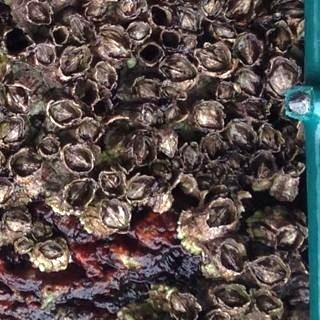Barnacle: (98, 199, 130, 234), (196, 47, 233, 77), (100, 25, 132, 59), (269, 61, 298, 94), (162, 55, 196, 82), (0, 86, 30, 116), (60, 144, 92, 172), (253, 256, 285, 284), (44, 101, 78, 127), (61, 45, 88, 77), (235, 71, 264, 99), (218, 243, 245, 273), (127, 174, 155, 202), (168, 291, 196, 319), (194, 104, 223, 131), (235, 35, 261, 65), (66, 179, 92, 208), (226, 123, 254, 149), (207, 202, 235, 228), (175, 9, 202, 35), (12, 151, 38, 177), (178, 142, 200, 172), (249, 155, 273, 182), (269, 24, 292, 52), (39, 240, 67, 263), (69, 17, 93, 43), (217, 287, 246, 308), (5, 209, 28, 235), (259, 126, 280, 153), (276, 226, 300, 249), (226, 0, 255, 19), (157, 132, 176, 161), (26, 2, 49, 25), (202, 136, 223, 161), (127, 23, 152, 43), (95, 65, 114, 91), (101, 174, 124, 195), (254, 293, 277, 314), (2, 121, 22, 145), (140, 100, 158, 126), (33, 44, 54, 66), (199, 0, 223, 19), (38, 136, 59, 157), (138, 79, 160, 99), (212, 22, 236, 40), (79, 122, 100, 142), (86, 0, 108, 19), (216, 82, 233, 102), (283, 160, 303, 177), (14, 236, 33, 253), (163, 86, 183, 100), (121, 0, 139, 15), (165, 107, 180, 123)
